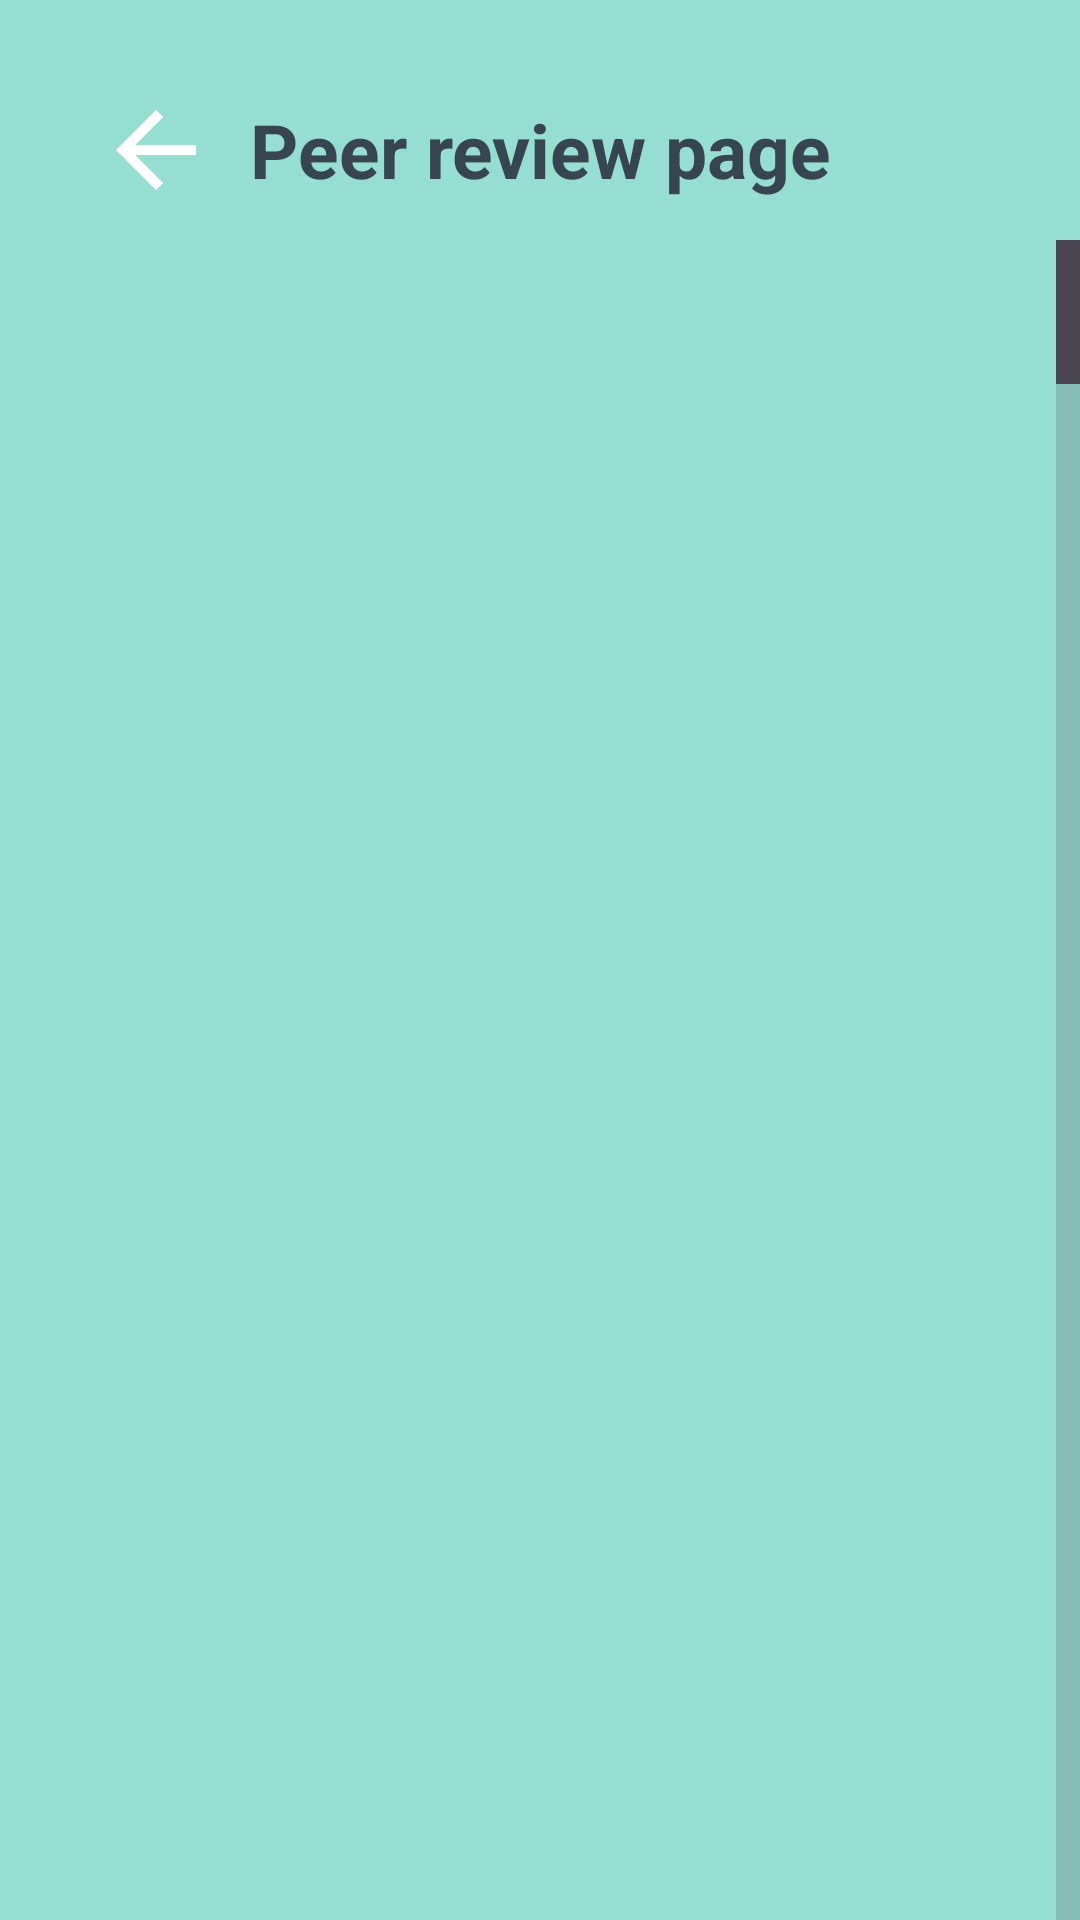

Icon click points for this 1080 × 1920 phone screenshot, format (x=x, y=y):
Back to previous page: (x=156, y=150)
